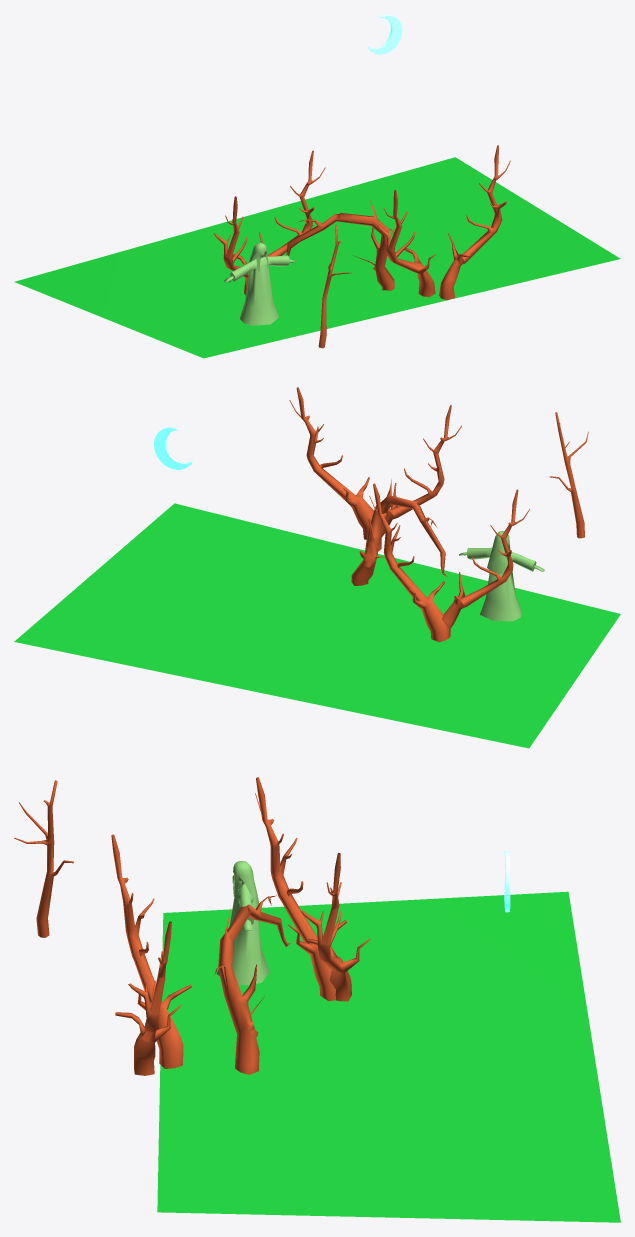
Rendered from Homepage-scene.gltf.
3 renders of one model, top to bottom at view 1: azimuth 30°, elevation 25°; view 2: azimuth 150°, elevation 25°; view 3: azimuth 270°, elevation 25°, orthographic. The views are drawn at different scales.
Parts seen in each view (by area): view 1: gras plane, Model, Cube.891, Cube.900, Cube.877, Cube.894, Cube.001, Cube.892, g; view 2: gras plane, Model, Cube.894, Cube.891, Cube.900, Cube.001, Cube.877, Cube.892, g; view 3: gras plane, Cube.891, Cube.877, Cube.001, Model, Cube.900, Cube.894, Cube.892.
Boxes of the visible parts, box(x1,y1,x2,y2) form: gras plane: box(14, 157, 620, 358); Model: box(224, 242, 296, 325); Cube.891: box(286, 200, 394, 290); Cube.900: box(439, 145, 510, 300); Cube.877: box(378, 190, 435, 297); Cube.894: box(244, 150, 325, 294); Cube.001: box(214, 196, 248, 295); Cube.892: box(318, 225, 351, 348); g: box(367, 14, 402, 54); gras plane: box(14, 503, 620, 748); Model: box(459, 531, 544, 621); Cube.894: box(369, 483, 449, 642); Cube.891: box(351, 479, 447, 585); Cube.900: box(289, 387, 373, 539); Cube.001: box(441, 489, 529, 638); Cube.877: box(367, 405, 461, 551); Cube.892: box(550, 412, 588, 538); g: box(154, 427, 192, 469); gras plane: box(157, 891, 620, 1222); Cube.891: box(214, 895, 290, 1074); Cube.877: box(111, 834, 191, 1068); Cube.001: box(255, 777, 346, 1001); Model: box(216, 861, 269, 985); Cube.900: box(115, 921, 181, 1075); Cube.894: box(301, 853, 370, 1001); Cube.892: box(14, 780, 73, 937).
Size of the model in its own units: 79.76 by 32.07 by 60.77.
